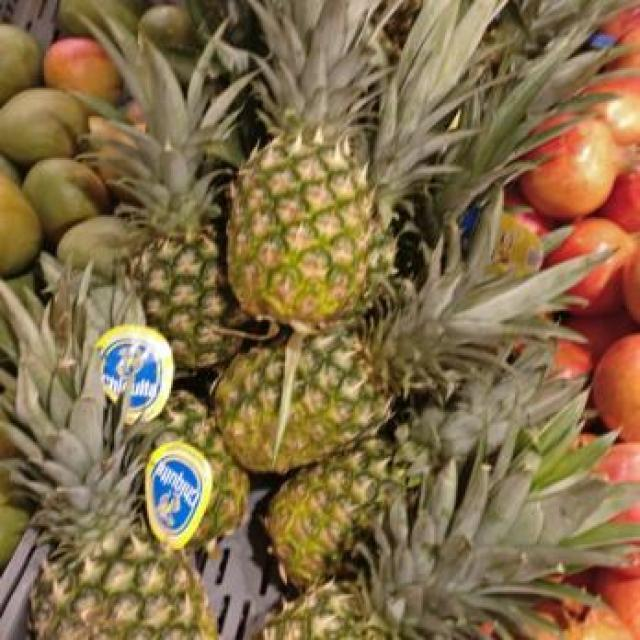pineapple: (215, 258, 598, 473), (0, 272, 216, 639), (259, 441, 636, 639), (265, 364, 552, 587), (228, 0, 392, 329), (92, 35, 248, 369), (145, 390, 250, 547)
